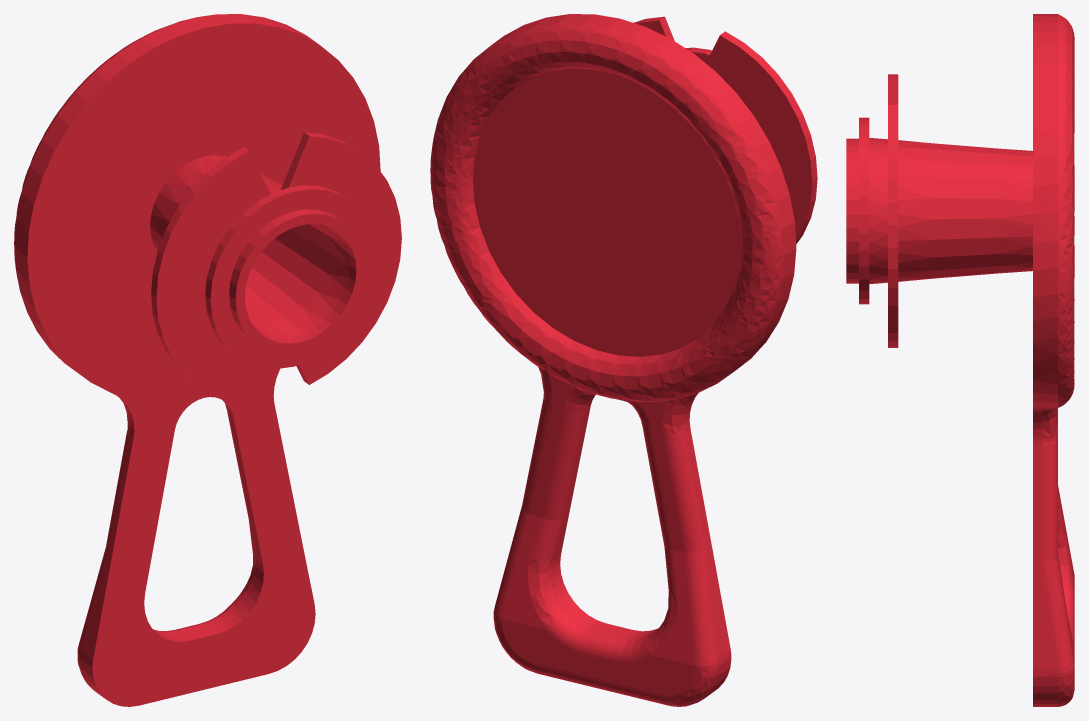
3 renders of one model, left to right at view 1: azimuth 30°, elevation 25°; view 2: azimuth 150°, elevation 25°; view 3: azimuth 270°, elevation 25°, orthographic. The views are drawn at different scales.
Parts seen in each view (by area): view 1: 10068489; view 2: 10068489; view 3: 10068489.
Part boxes in pixels (x1,y1,x2,y2): 10068489: (14,14,401,706); 10068489: (430,14,817,706); 10068489: (846,14,1074,706).
Bounding box in the file's own units: 0.5588 × 1 × 0.3235.
